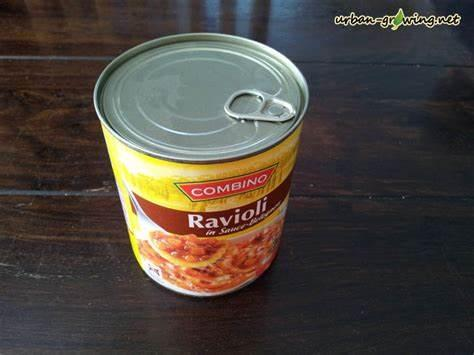metal: (94, 33, 309, 296)
